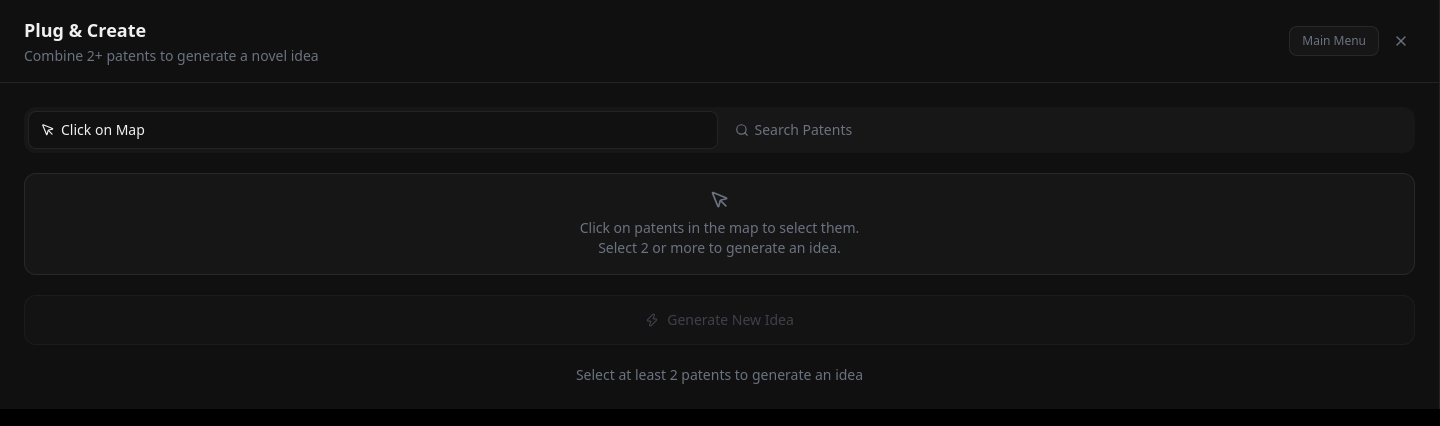
Test case: PlugAndCreate › switches to search tab and shows search input
What coordinates should you click on to do the following:
click the button "Search Patents"
I would click on:
 (803, 130)
Its box is [722, 111, 1411, 149].
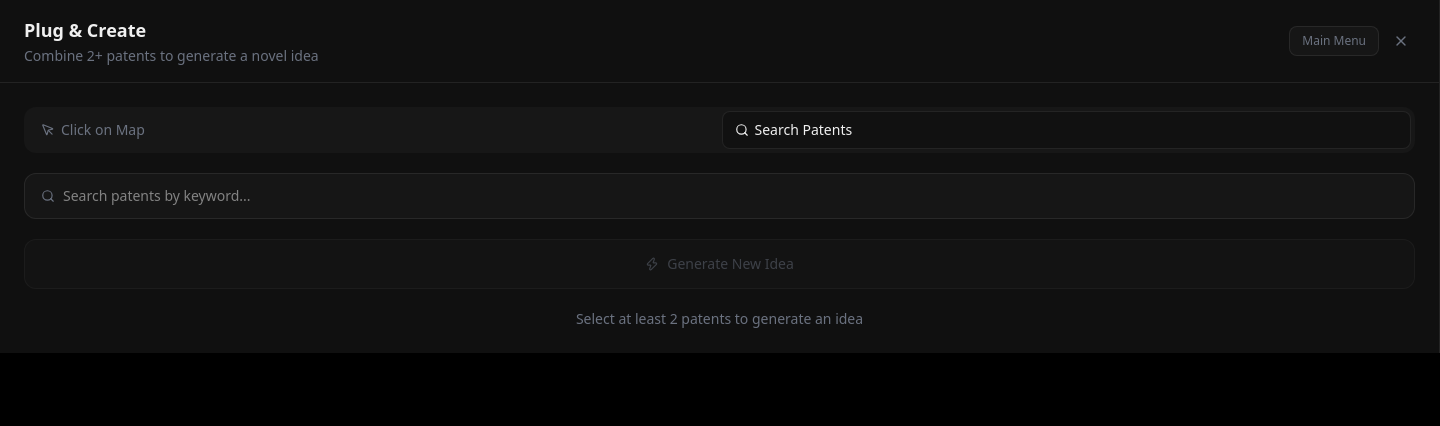
expect the field with placeholder "Search patents by keyword..." is shown: met, box [63, 186, 1398, 206]
